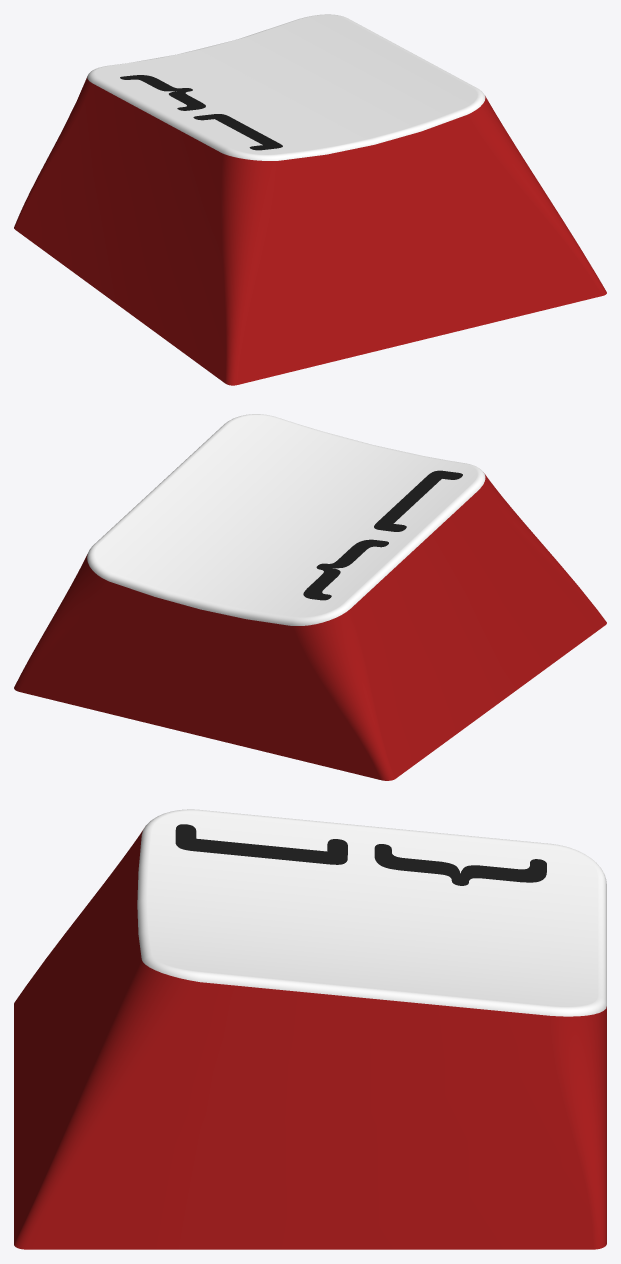
File: Close Brackets.fbx
3 renders of one model, top to bottom at view 1: azimuth 30°, elevation 25°; view 2: azimuth 150°, elevation 25°; view 3: azimuth 270°, elevation 25°, orthographic. The views are drawn at different scales.
Parts seen in each view (by area): view 1: Body1; view 2: Body1; view 3: Body1.
Boxes of the visible parts, x1,y1,x2,y2 form: Body1: (14, 14, 606, 385); Body1: (14, 414, 606, 780); Body1: (14, 809, 606, 1249).
Bounding box in the file's own units: 18 × 7.85 × 18.
